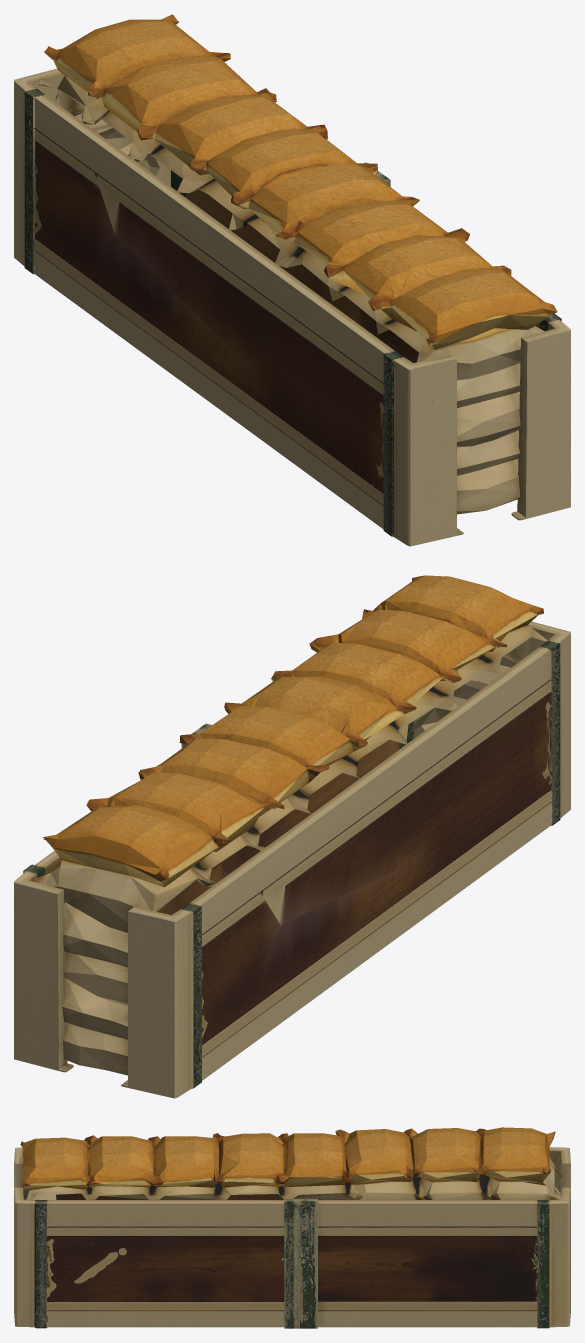
Rendered from barricade.glb.
3 renders of one model, top to bottom at view 1: azimuth 30°, elevation 25°; view 2: azimuth 150°, elevation 25°; view 3: azimuth 270°, elevation 25°, orthographic. The views are drawn at different scales.
Visible parts, largest first — view 1: tripo_node_174d28bf-b24e-4700-ab12-45cb8d2cb8a7; view 2: tripo_node_174d28bf-b24e-4700-ab12-45cb8d2cb8a7; view 3: tripo_node_174d28bf-b24e-4700-ab12-45cb8d2cb8a7.
Part boxes in pixels (box(x1,y1,x2,y2)): tripo_node_174d28bf-b24e-4700-ab12-45cb8d2cb8a7: box(14, 14, 570, 546); tripo_node_174d28bf-b24e-4700-ab12-45cb8d2cb8a7: box(14, 575, 570, 1098); tripo_node_174d28bf-b24e-4700-ab12-45cb8d2cb8a7: box(14, 1127, 570, 1328).
Bounding box in the file's own units: 0.2559 × 0.3184 × 0.998.
1 material, 1 textured.
